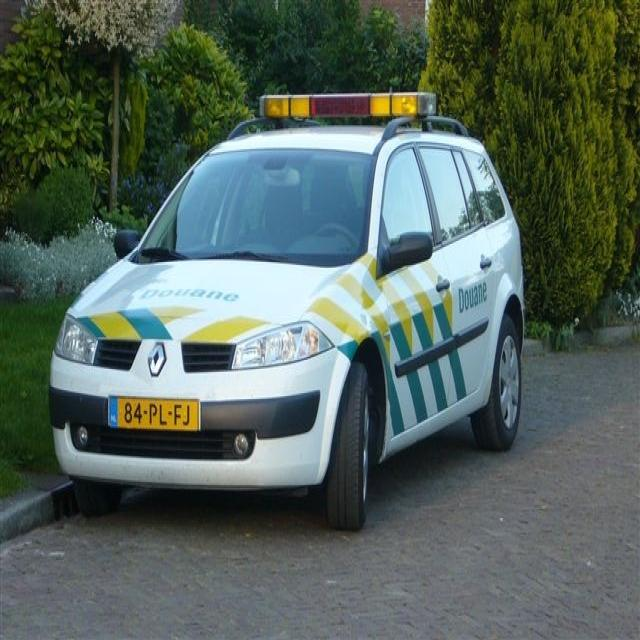number_plate: (106, 396, 200, 432)
